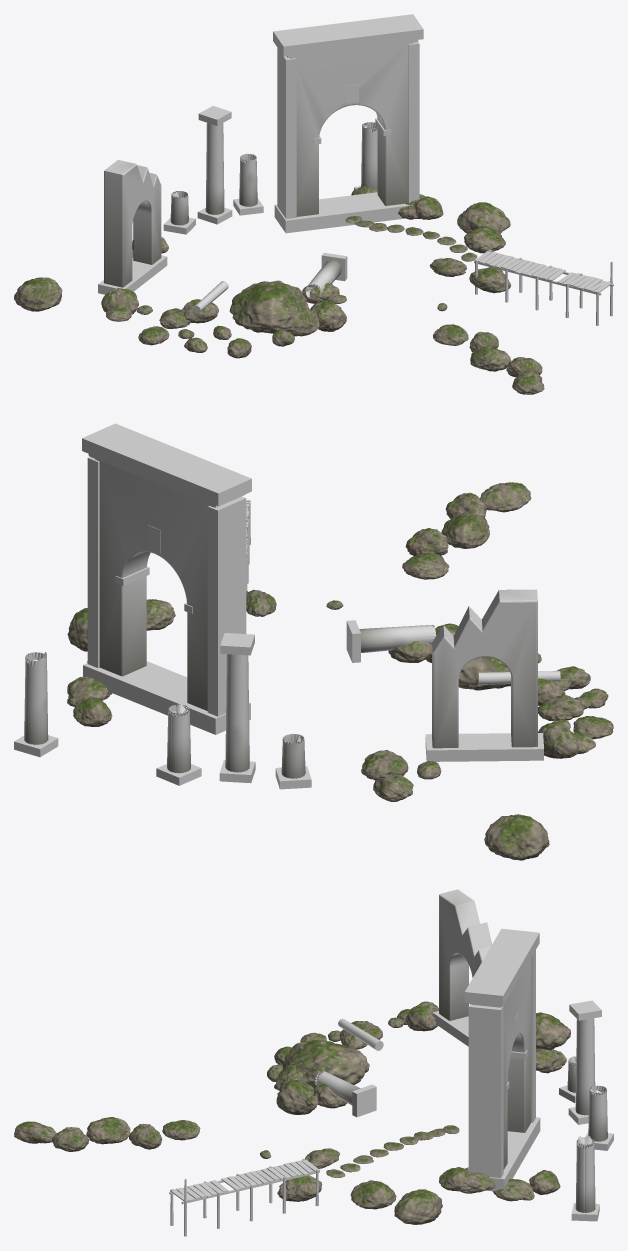
File: props.glb
3 views of the same model, one above another, from view 1: azimuth 30°, elevation 25°; view 2: azimuth 150°, elevation 25°; view 3: azimuth 270°, elevation 25° (orthographic). The views are drawn at different scales.
Visible parts, largest first — view 1: stoneV, rock, stone, wood, bark; view 2: stoneV, stone, rock, bark; view 3: rock, stone, stoneV, wood, bark.
Part boxes in pixels (<box>): stoneV: <box>104,42,413,298</box>; rock: <box>14,186,544,394</box>; stone: <box>98,14,423,294</box>; wood: <box>474,250,613,295</box>; bark: <box>193,250,612,325</box>; stoneV: <box>24,459,537,778</box>; stone: <box>14,423,543,789</box>; rock: <box>67,482,613,860</box>; bark: <box>246,499,560,685</box>; rock: <box>14,1001,570,1224</box>; stone: <box>352,928,613,1221</box>; stoneV: <box>315,889,607,1212</box>; wood: <box>169,1159,320,1204</box>; bark: <box>170,1018,383,1236</box>.
Bounding box in the file's own units: 25.03 × 12.34 × 28.79.
